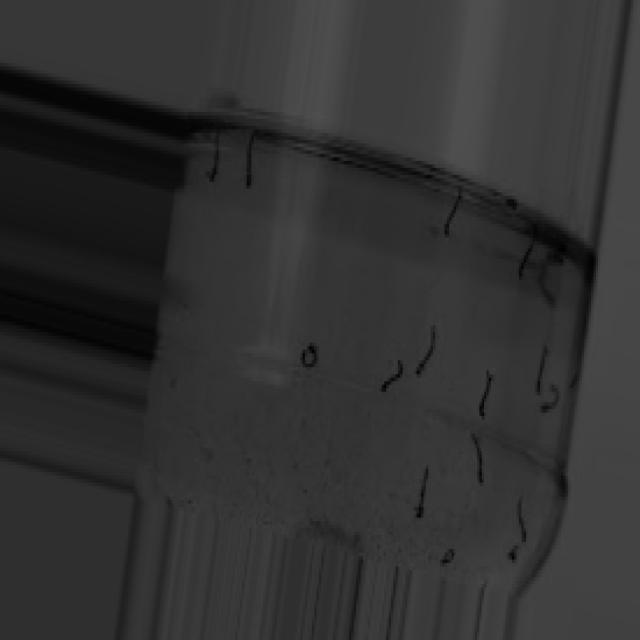larvas: (538, 245, 562, 306), (515, 232, 541, 283), (443, 192, 467, 236), (414, 325, 436, 373), (205, 125, 221, 183), (244, 128, 258, 193), (416, 465, 432, 518), (472, 435, 487, 488), (379, 360, 404, 391), (541, 378, 562, 413), (478, 373, 495, 415), (536, 348, 551, 393), (517, 498, 530, 546), (300, 341, 317, 368), (439, 551, 460, 570), (570, 368, 581, 392), (508, 543, 519, 563)
